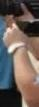hard-hat: (0, 0, 10, 8)
